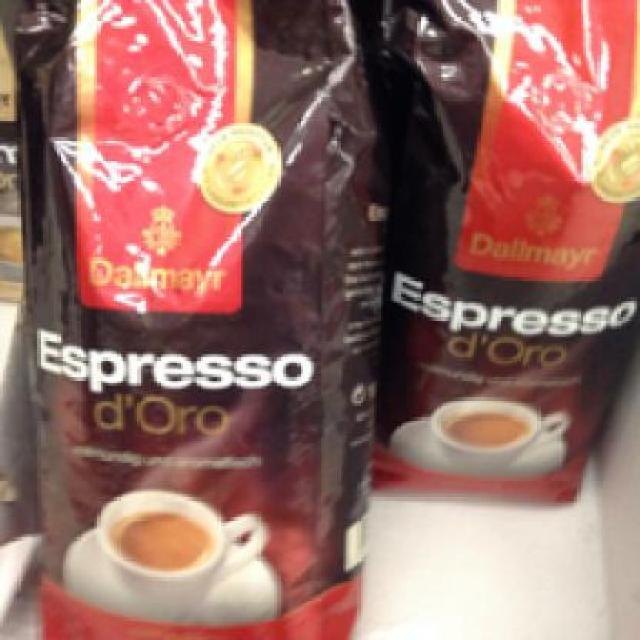Coffee: (8, 0, 384, 637), (372, 0, 628, 503)
